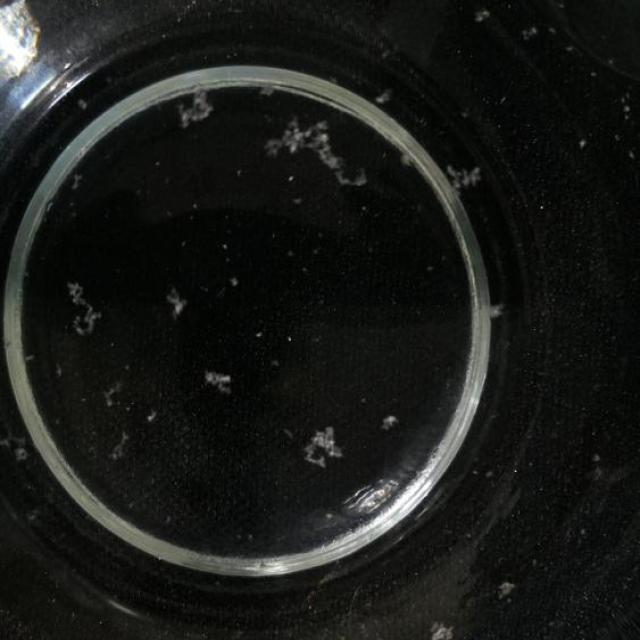fiber: (267, 112, 376, 194), (62, 267, 104, 337), (306, 422, 340, 473), (175, 94, 214, 136), (446, 160, 483, 198), (108, 420, 136, 467), (199, 362, 242, 392), (96, 374, 130, 411), (368, 80, 402, 113), (494, 565, 520, 602), (468, 0, 498, 31), (165, 286, 193, 319), (426, 612, 458, 638), (256, 78, 278, 102), (381, 405, 398, 434)
